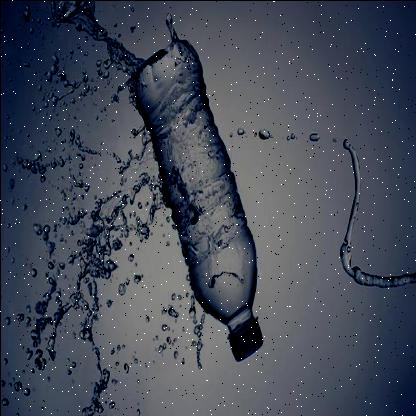Plastic Bottle: (134, 40, 262, 361)
